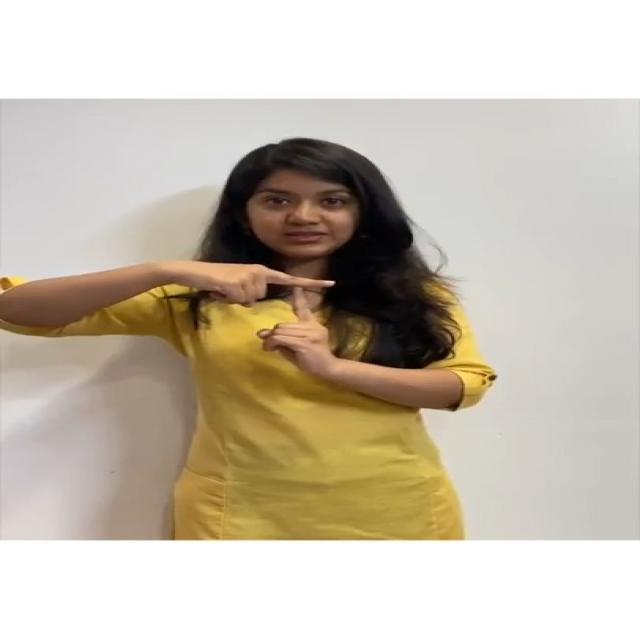T: (152, 250, 372, 376)
